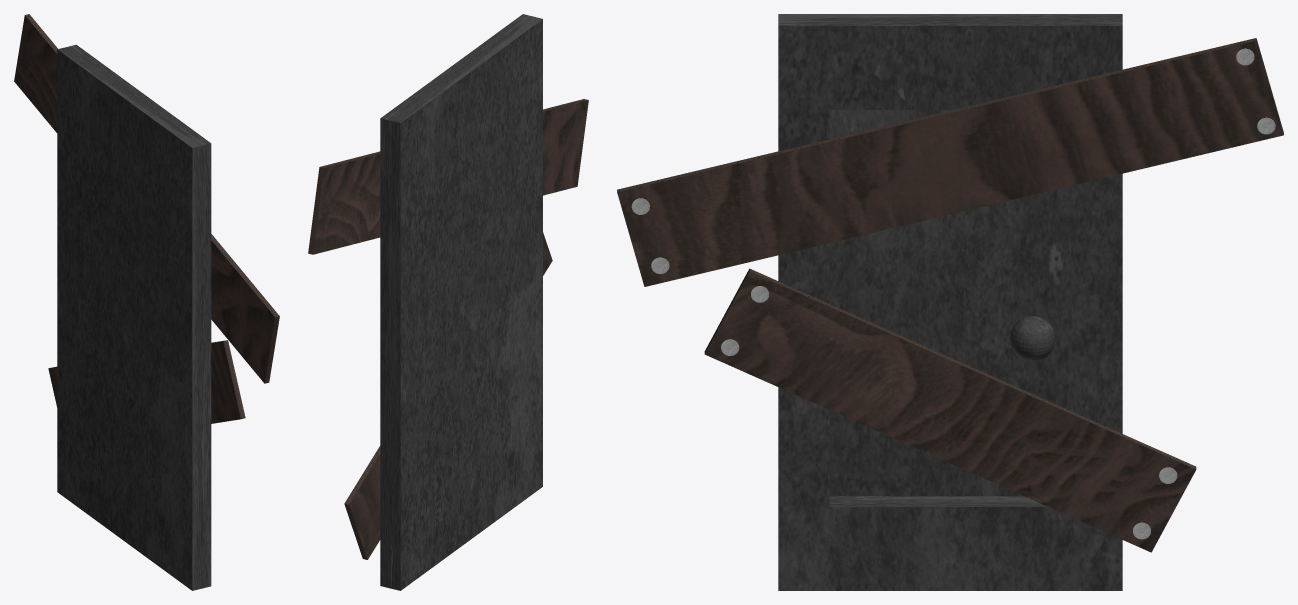
File: boarddoor.glb
3 renders of one model, left to right at view 1: azimuth 30°, elevation 25°; view 2: azimuth 150°, elevation 25°; view 3: azimuth 270°, elevation 25°, orthographic. The views are drawn at different scales.
Parts seen in each view (by area): view 1: Cube, Cube.001, Cube.002; view 2: Cube, Cube.001, Cube.002; view 3: Cube, Cube.001, Cube.002, Sphere.
Part boxes in pixels (x1,y1,x2,y2): Cube: (57,44,211,590); Cube.001: (14,14,279,383); Cube.002: (48,340,245,423); Cube: (380,14,542,590); Cube.001: (308,99,588,254); Cube.002: (344,232,552,559); Cube: (778,14,1122,590); Cube.001: (617,38,1283,286); Cube.002: (704,268,1196,552); Sphere: (1010,316,1055,361).
Bounding box in the file's own units: 1.09 × 11.55 × 12.35.
Materials: 3 (3 with a texture image).
